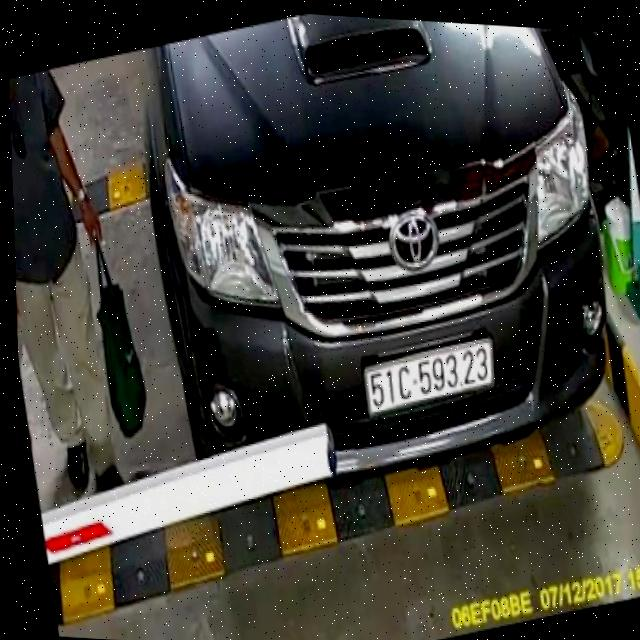car: (128, 14, 622, 496)
plate: (355, 330, 504, 427)
